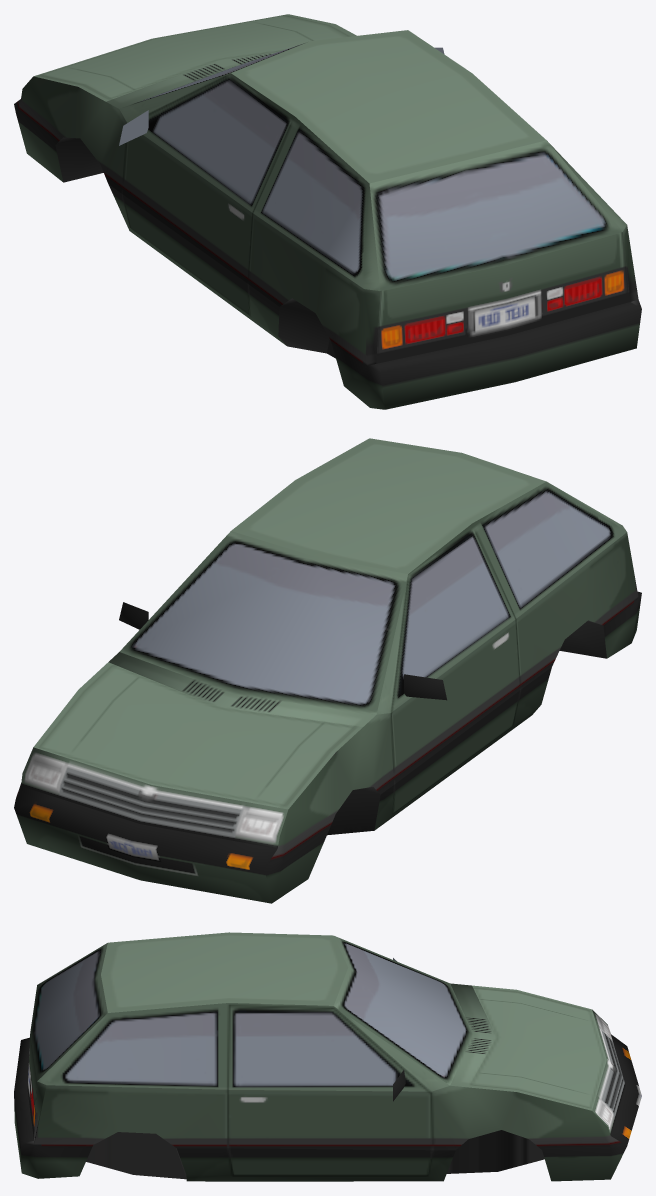
File: Vehicles_SmallCar.FBX
3 views of the same model, one above another, from view 1: azimuth 30°, elevation 25°; view 2: azimuth 150°, elevation 25°; view 3: azimuth 270°, elevation 25° (orthographic). The views are drawn at different scales.
Visible parts, largest first — view 1: Vehicles_SmallCar; view 2: Vehicles_SmallCar; view 3: Vehicles_SmallCar.
Part boxes in pixels (bbox=[...]): Vehicles_SmallCar: bbox=[14, 14, 641, 409]; Vehicles_SmallCar: bbox=[14, 438, 641, 903]; Vehicles_SmallCar: bbox=[14, 932, 641, 1181].
Size of the model in its own units: 90.52 by 59.77 by 184.
1 material, 1 textured.
